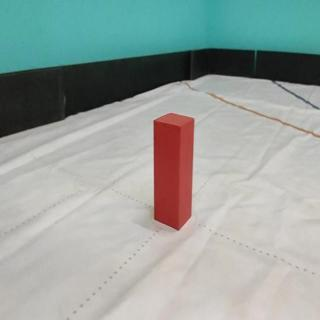redbox: (152, 112, 194, 231)
